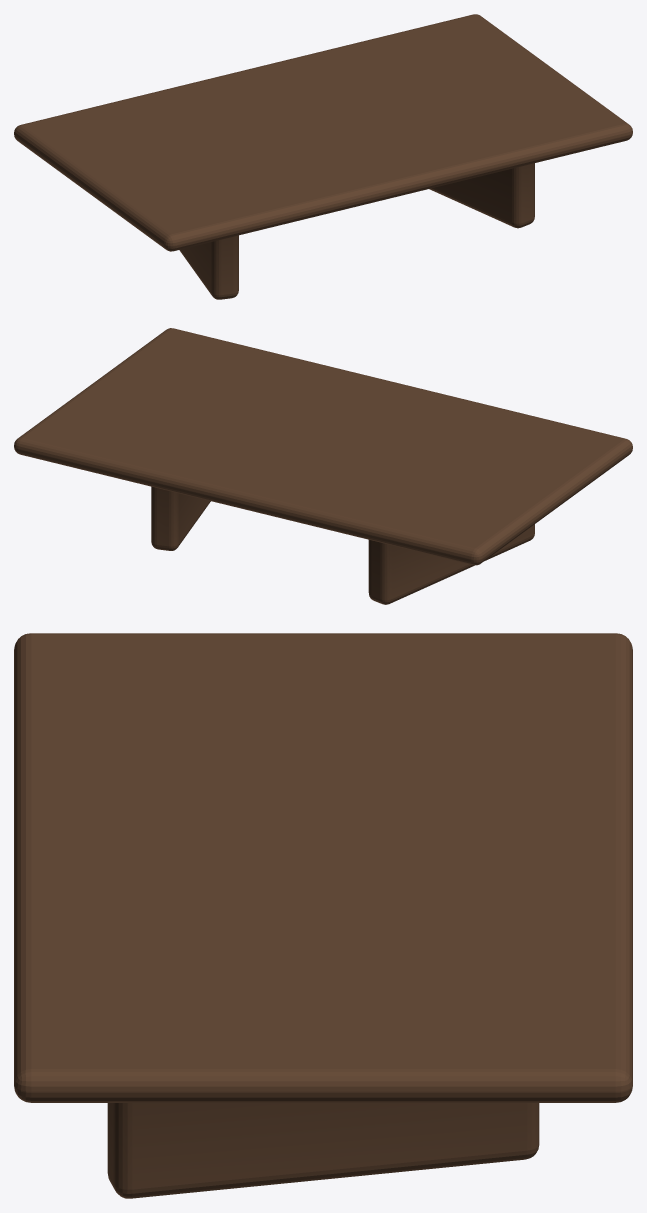
The model's file is trestle-table.glb.
3 views of the same model, one above another, from view 1: azimuth 30°, elevation 25°; view 2: azimuth 150°, elevation 25°; view 3: azimuth 270°, elevation 25° (orthographic). The views are drawn at different scales.
Parts seen in each view (by area): view 1: trestle-table; view 2: trestle-table; view 3: trestle-table.
Part boxes in pixels (x1=…): trestle-table: x1=14, y1=14, x2=632, y2=299; trestle-table: x1=14, y1=328, x2=632, y2=604; trestle-table: x1=14, y1=633, x2=632, y2=1198.
Bounding box in the file's own units: 1.75 × 0.36 × 1.02.
